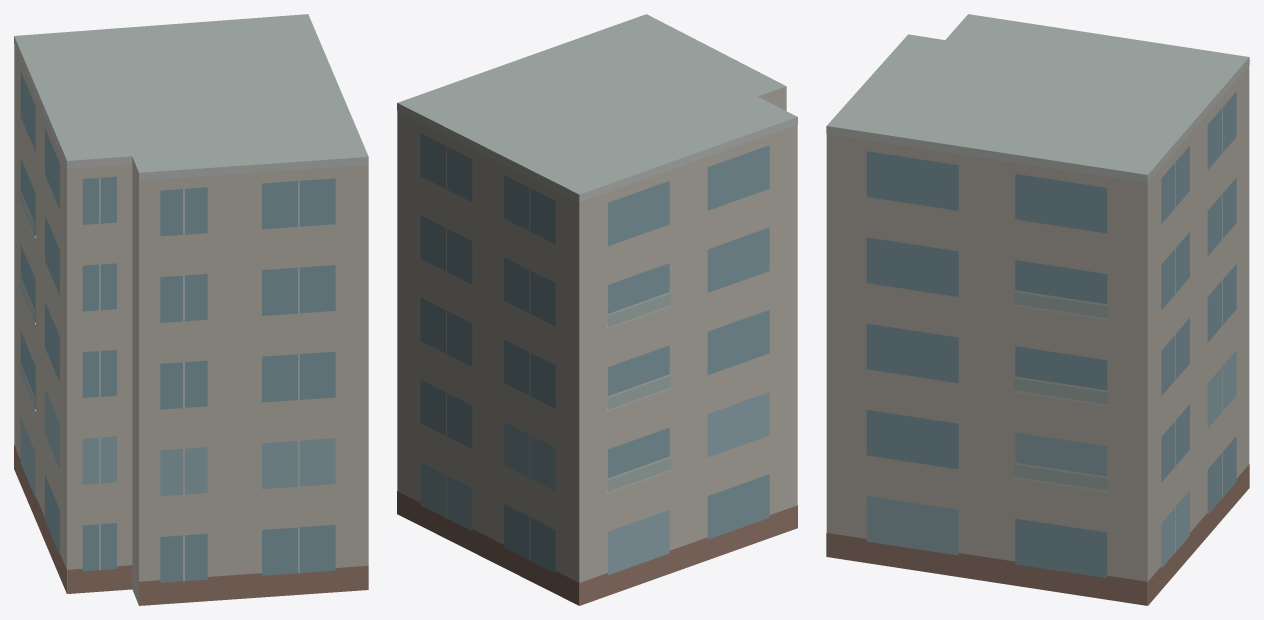
File: survey-upis-33011100.glb
3 views of the same model, side by side, from view 1: azimuth 30°, elevation 25°; view 2: azimuth 150°, elevation 25°; view 3: azimuth 270°, elevation 25° (orthographic). The views are drawn at different scales.
Parts seen in each view (by area): view 1: survey-upis-33011100.tmp; view 2: survey-upis-33011100.tmp; view 3: survey-upis-33011100.tmp.
Part boxes in pixels (<box>): survey-upis-33011100.tmp: <box>14,14,368,605</box>; survey-upis-33011100.tmp: <box>397,14,797,605</box>; survey-upis-33011100.tmp: <box>826,14,1249,605</box>.
Bounding box in the file's own units: 10.42 × 13 × 11.58.
